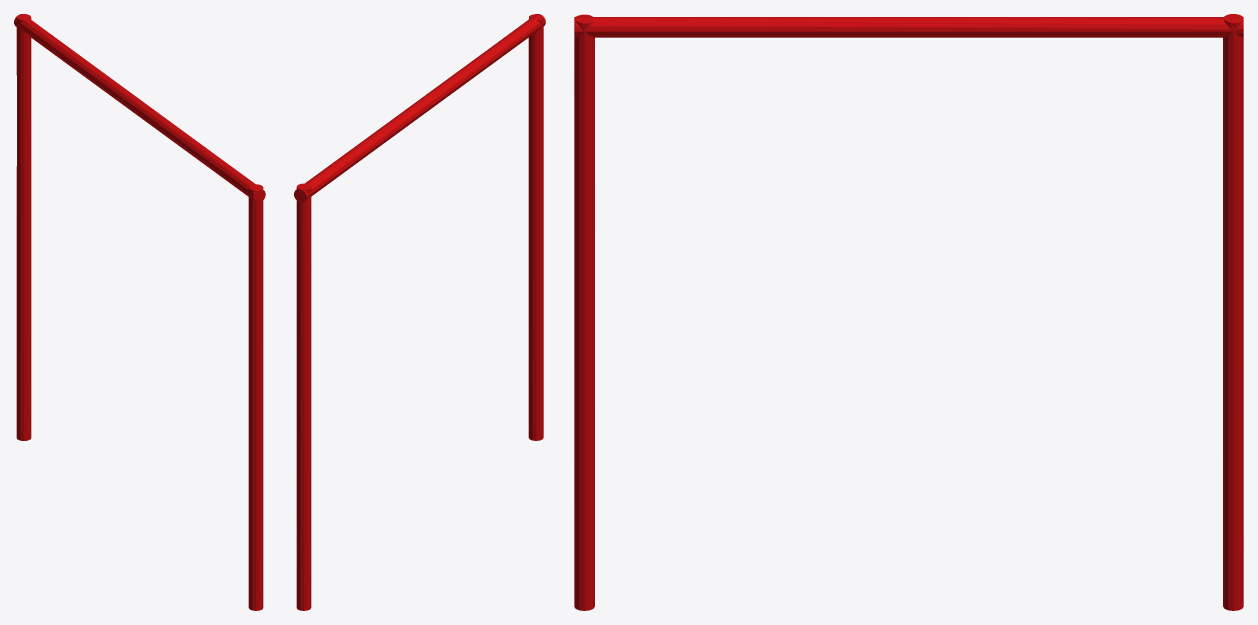
The model's file is qual_gate.dae.
3 renders of one model, left to right at view 1: azimuth 30°, elevation 25°; view 2: azimuth 150°, elevation 25°; view 3: azimuth 270°, elevation 25°, orthographic. The views are drawn at different scales.
Parts seen in each view (by area): view 1: ROBOSUB_QUALIFICATION_SLDPRT; view 2: ROBOSUB_QUALIFICATION_SLDPRT; view 3: ROBOSUB_QUALIFICATION_SLDPRT.
Part boxes in pixels (x1,y1,x2,y2): ROBOSUB_QUALIFICATION_SLDPRT: (14,14,265,610); ROBOSUB_QUALIFICATION_SLDPRT: (294,14,545,610); ROBOSUB_QUALIFICATION_SLDPRT: (574,14,1243,610).
Bounding box in the file's own units: 0.0635 × 2.06 × 2.
